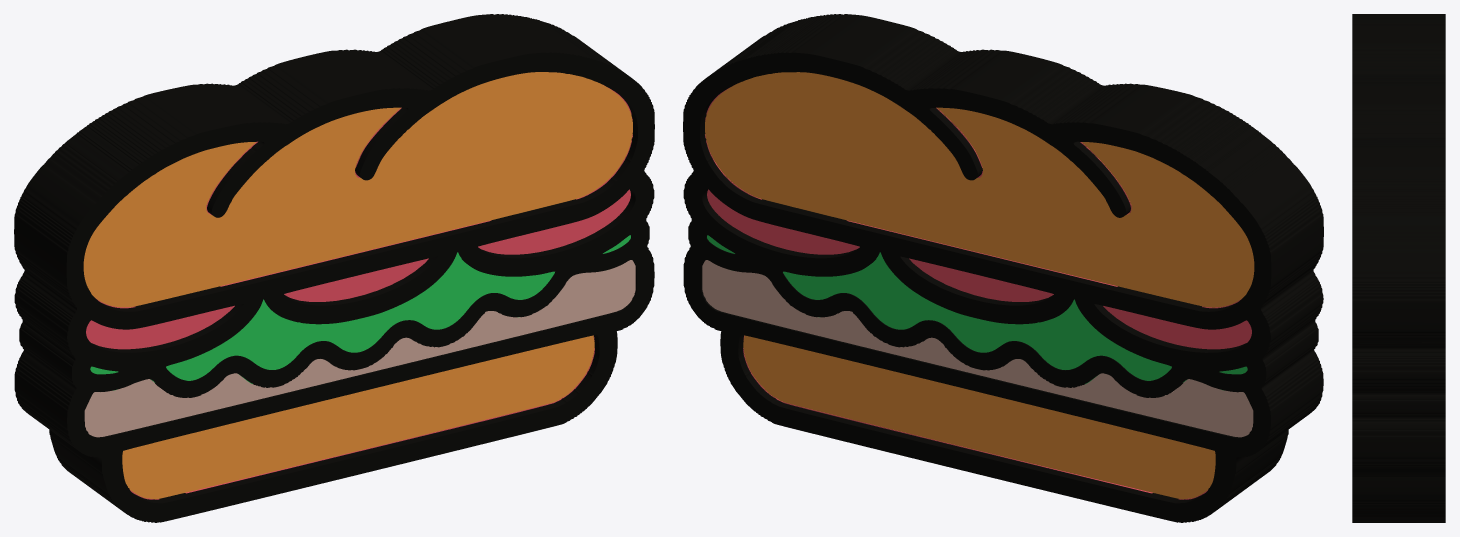
Rendered from Sandwich Model.fbx.
The picture shows the model from 3 angles, left to right: view 1: azimuth 30°, elevation 25°; view 2: azimuth 150°, elevation 25°; view 3: azimuth 270°, elevation 25°; orthographic projection. The views are drawn at different scales.
Visible parts, largest first — view 1: path0, path1, path3, path2, path4; view 2: path0, path1, path3, path2, path4; view 3: path0.
Boxes of the visible parts, x1=… form: path0: x1=14, y1=14, x2=654, y2=522; path1: x1=83, y1=72, x2=632, y2=499; path3: x1=84, y1=260, x2=635, y2=437; path2: x1=90, y1=235, x2=630, y2=390; path4: x1=86, y1=87, x2=632, y2=499; path0: x1=683, y1=14, x2=1323, y2=522; path1: x1=705, y1=72, x2=1254, y2=499; path3: x1=702, y1=260, x2=1253, y2=437; path2: x1=707, y1=235, x2=1247, y2=390; path4: x1=705, y1=85, x2=1251, y2=499; path0: x1=1352, y1=14, x2=1445, y2=522.
Bounding box in the file's own units: 3168 × 1958 × 491.
